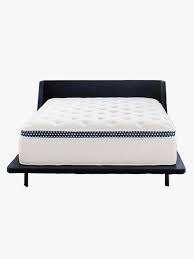bed-matress: (18, 95, 179, 167)
